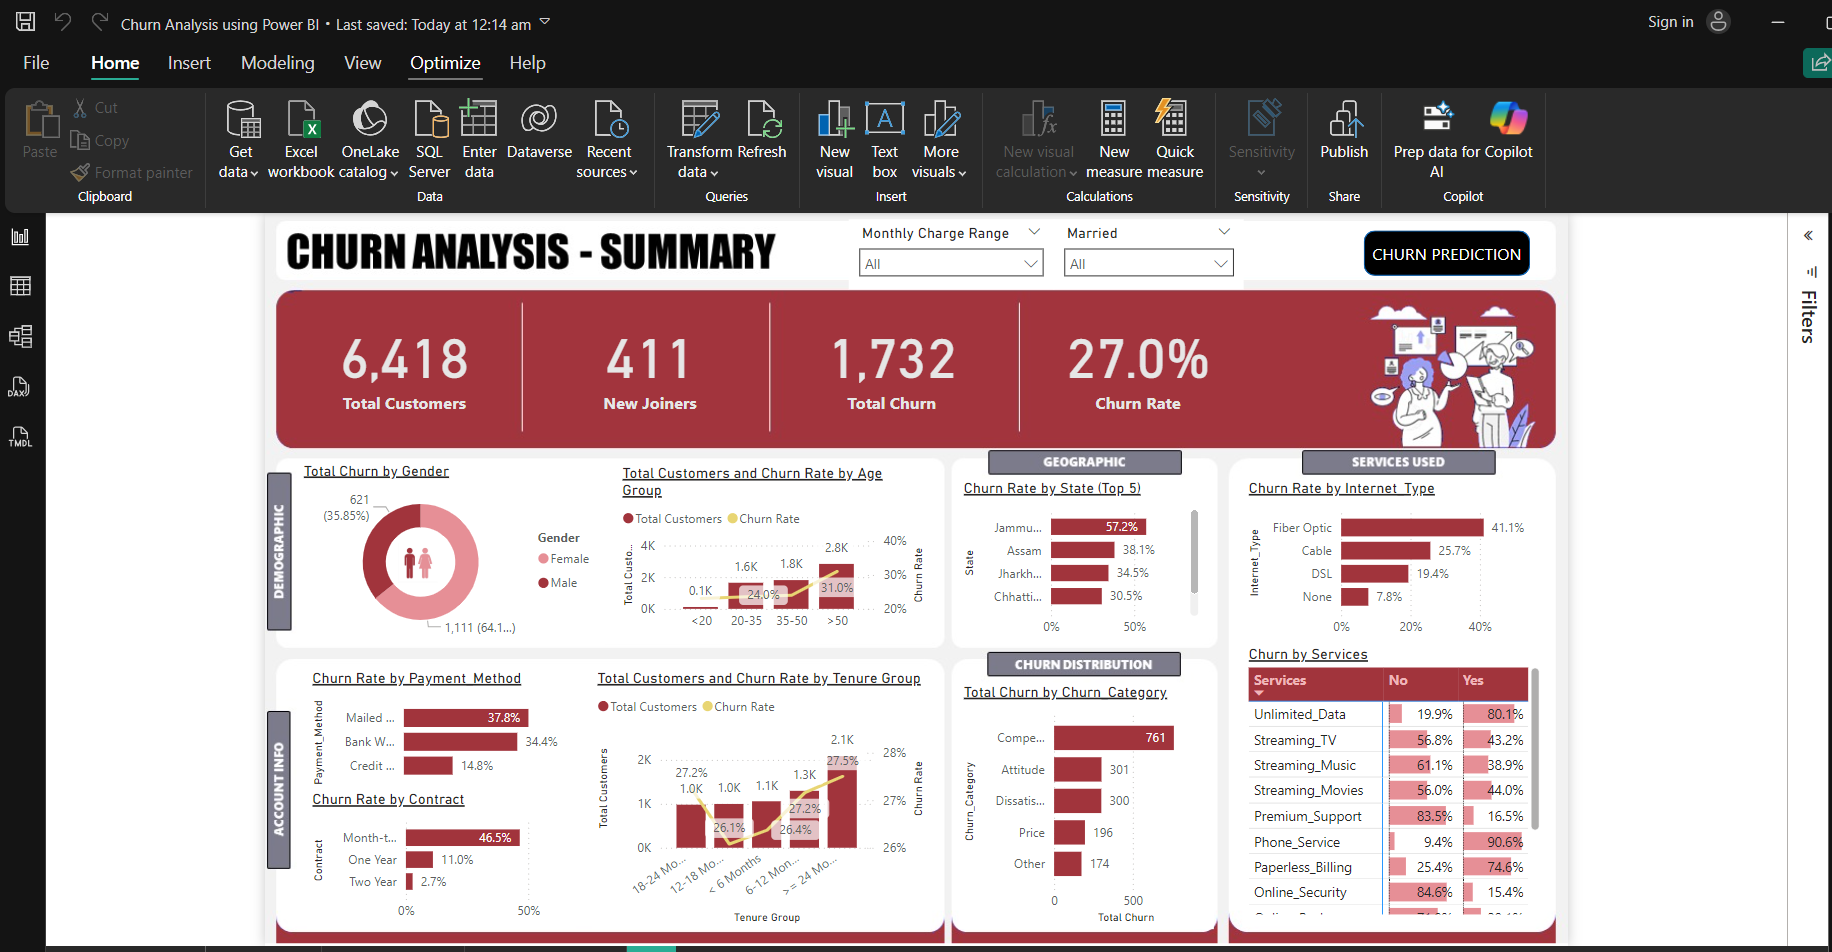

This screenshot's page, from the dashboard's own definition file:
{"tool":"powerbi","page":{"name":"Summary","canvas":[1280,720],"ordinal":0},"visuals":[{"type":"card","fields":{"Values":["tbl_Measures.Total Customers"]},"box":[32.7,75.4,207.7,145.1],"z":0},{"type":"card","fields":{"Values":["tbl_Measures.New Joiners"]},"box":[273.1,75.4,209.1,145.1],"z":1000},{"type":"card","fields":{"Values":["tbl_Measures.Total Churn"]},"box":[512.1,75.4,207.7,145.1],"z":2000},{"type":"card","fields":{"Values":["tbl_Measures.Churn Rate"]},"box":[753.9,75.4,207.7,145.1],"z":3000},{"type":"donutChart","fields":{"Category":["production_Churn.Gender"],"Y":["tbl_Measures.Total Churn"]},"box":[33.1,244.2,300.6,180.4],"z":4000},{"type":"lineStackedColumnComboChart","fields":{"Category":["mapping_AgeGrp.Age Group"],"Y":["tbl_Measures.Total Customers"],"Y2":["tbl_Measures.Churn Rate"]},"box":[345.7,246.1,307.3,172.1],"z":5000},{"type":"clusteredBarChart","fields":{"Category":["production_Churn.Payment_Method"],"Y":["tbl_Measures.Churn Rate"]},"box":[41.7,447.9,255.2,119],"z":6000},{"type":"clusteredBarChart","fields":{"Category":["production_Churn.Contract"],"Y":["tbl_Measures.Churn Rate"]},"box":[41.7,566.9,263.8,136.2],"z":7000},{"type":"lineStackedColumnComboChart","fields":{"Category":["mapping_TenureGrp.Tenure Group"],"Y":["tbl_Measures.Total Customers"],"Y2":["tbl_Measures.Churn Rate"]},"box":[321.5,447.9,331.3,255.2],"z":8000},{"type":"clusteredBarChart","title":"Churn Rate by State (Top 5)","fields":{"Y":["tbl_Measures.Churn Rate"],"Category":["production_Churn.State"]},"box":[681,261.4,240.5,163.2],"z":9000},{"type":"clusteredBarChart","fields":{"Category":["production_Churn.Churn_Category"],"Y":["tbl_Measures.Total Churn"]},"box":[681,461.4,250.3,241.7],"z":10000},{"type":"clusteredBarChart","fields":{"Category":["production_Churn.Internet_Type"],"Y":["tbl_Measures.Churn Rate"]},"box":[960.7,261.4,296.9,163.2],"z":11000},{"type":"pivotTable","title":"Churn by Services","fields":{"Rows":["prod_Services.Services"],"Columns":["prod_Services.Status"],"Values":["Sum(prod_Services.Churn Status)"]},"box":[960.7,424.5,295.7,268.7],"z":12000},{"type":"image","box":[126.4,315.3,47.9,55.2],"z":13000},{"type":"slicer","fields":{"Values":["production_Churn.Monthly Charge Column"]},"box":[573,6.1,201.2,68.7],"z":14000},{"type":"slicer","fields":{"Values":["production_Churn.Married"]},"box":[774.2,6.1,186.5,68.7],"z":15000},{"type":"shape","box":[1078.9,17.8,163.3,44.4],"z":16000}]}

Visuals, with their boxes on the page's 1280x720 design canvas (x1, y1, x2, y2). These are canvas units, not pixel positions in the 1832x952 screenshot, which may show the page scaled, cropped or inside an application window:
card - tbl_Measures.Total Customers: BBox(33, 75, 240, 220)
card - tbl_Measures.New Joiners: BBox(273, 75, 482, 220)
card - tbl_Measures.Total Churn: BBox(512, 75, 720, 220)
card - tbl_Measures.Churn Rate: BBox(754, 75, 962, 220)
donutChart - production_Churn.Gender x tbl_Measures.Total Churn: BBox(33, 244, 334, 425)
lineStackedColumnComboChart - mapping_AgeGrp.Age Group x tbl_Measures.Total Customers: BBox(346, 246, 653, 418)
clusteredBarChart - production_Churn.Payment_Method x tbl_Measures.Churn Rate: BBox(42, 448, 297, 567)
clusteredBarChart - production_Churn.Contract x tbl_Measures.Churn Rate: BBox(42, 567, 306, 703)
lineStackedColumnComboChart - mapping_TenureGrp.Tenure Group x tbl_Measures.Total Customers: BBox(322, 448, 653, 703)
"Churn Rate by State (Top 5)" clusteredBarChart: BBox(681, 261, 922, 425)
clusteredBarChart - production_Churn.Churn_Category x tbl_Measures.Total Churn: BBox(681, 461, 931, 703)
clusteredBarChart - production_Churn.Internet_Type x tbl_Measures.Churn Rate: BBox(961, 261, 1258, 425)
"Churn by Services" pivotTable: BBox(961, 424, 1256, 693)
image: BBox(126, 315, 174, 370)
slicer - production_Churn.Monthly Charge Column: BBox(573, 6, 774, 75)
slicer - production_Churn.Married: BBox(774, 6, 961, 75)
shape: BBox(1079, 18, 1242, 62)
